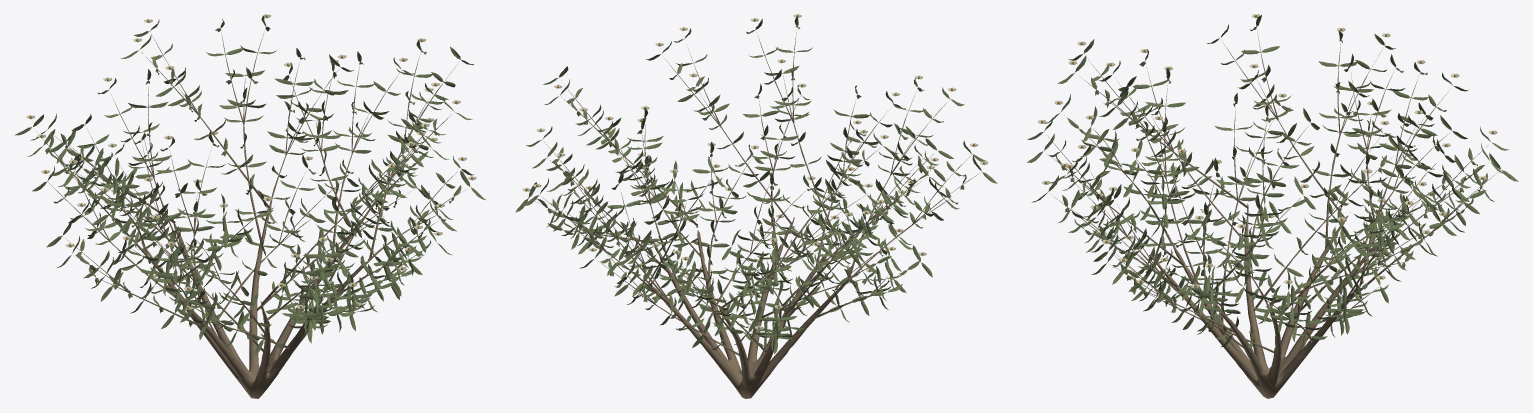
Rendered from Ciste_1_Niveau0.fbx.
The picture shows the model from 3 angles, left to right: view 1: azimuth 30°, elevation 25°; view 2: azimuth 150°, elevation 25°; view 3: azimuth 270°, elevation 25°; orthographic projection. The views are drawn at different scales.
Parts seen in each view (by area): view 1: Ciste_1_Niveau0_Jeu; view 2: Ciste_1_Niveau0_Jeu; view 3: Ciste_1_Niveau0_Jeu.
Part boxes in pixels (box(x1,y1,x2,y2)): Ciste_1_Niveau0_Jeu: box(14, 14, 486, 398); Ciste_1_Niveau0_Jeu: box(515, 14, 997, 398); Ciste_1_Niveau0_Jeu: box(1027, 14, 1518, 398).
Size of the model in its own units: 121 by 88.81 by 122.
